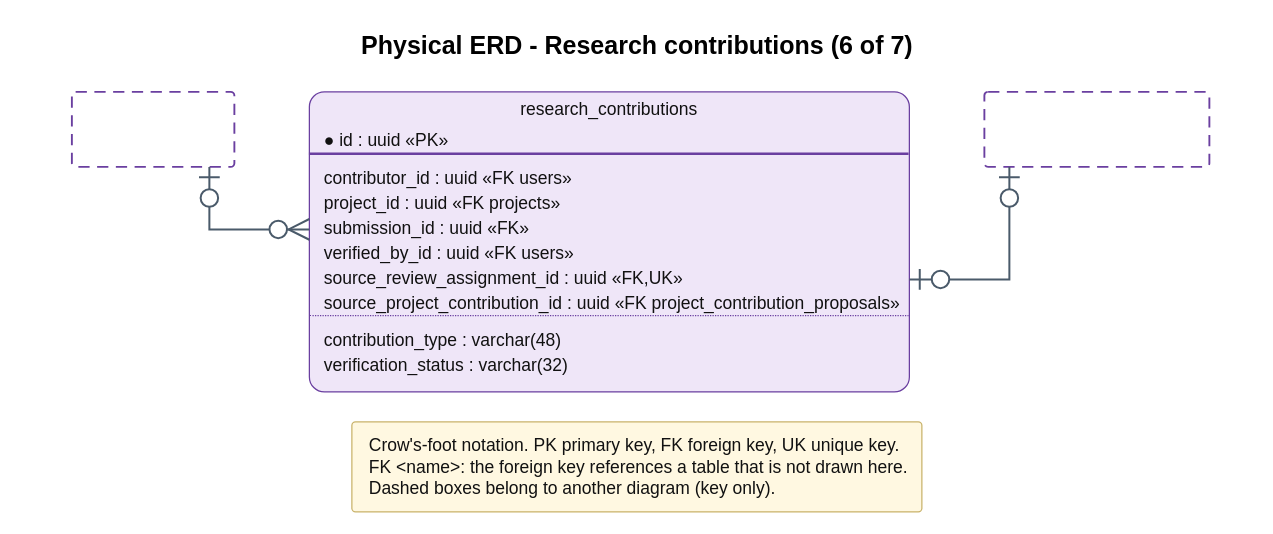
The diagram is 1273 pixels wide and 534 high, and some of its shapes have lost their labels. Here are the shapes that lost their labels. From the top down, the centre of each, then its label:
the point at 152,128: submissions ● id : uuid «PK»
the point at 1096,128: reviewer_assignments ● id : uuid «PK»
